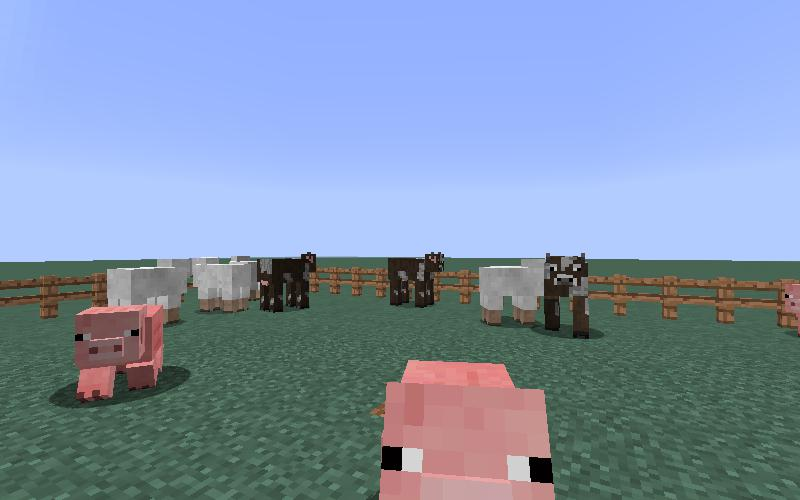cow: (541, 250, 592, 339), (252, 250, 319, 316), (387, 249, 448, 313)
pig: (374, 354, 558, 500), (69, 301, 170, 410)
sheep: (106, 257, 193, 334), (477, 256, 546, 332), (193, 254, 252, 318)
